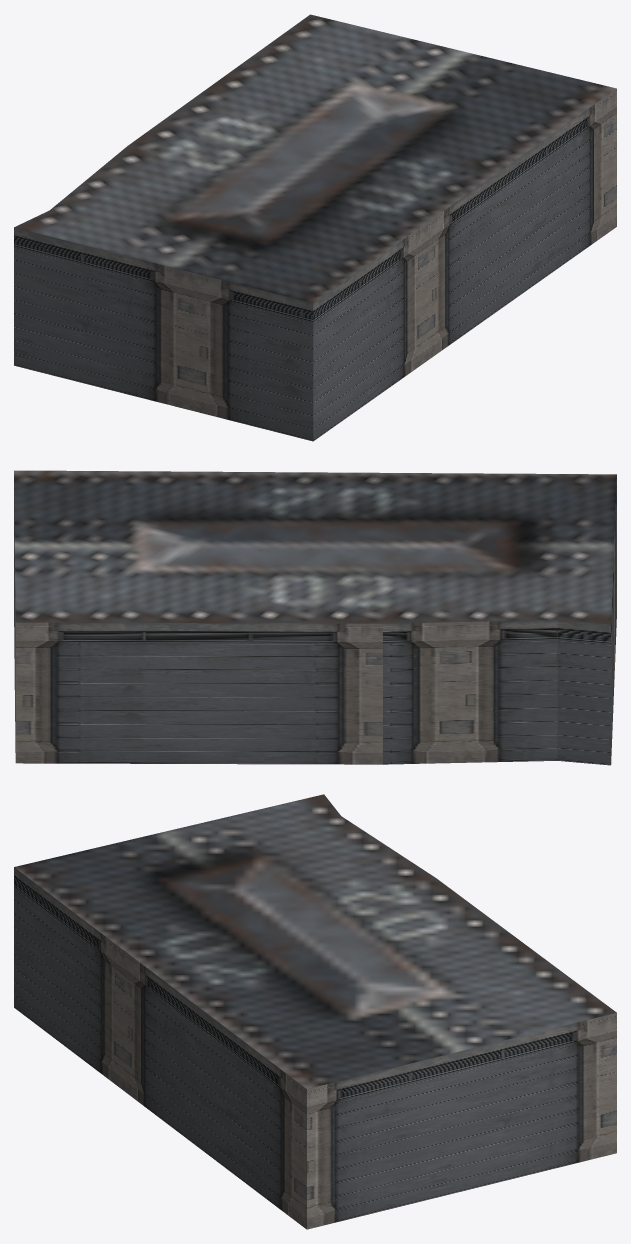
The model's file is hangar_hard_02.glb.
3 views of the same model, one above another, from view 1: azimuth 30°, elevation 25°; view 2: azimuth 150°, elevation 25°; view 3: azimuth 270°, elevation 25° (orthographic).
Parts seen in each view (by area): view 1: buildings/saxarba/hangar_hard/hangar_hard_02; view 2: buildings/saxarba/hangar_hard/hangar_hard_02; view 3: buildings/saxarba/hangar_hard/hangar_hard_02.
Part boxes in pixels (x1,y1,x2,y2): buildings/saxarba/hangar_hard/hangar_hard_02: (14, 14, 616, 441); buildings/saxarba/hangar_hard/hangar_hard_02: (14, 470, 616, 765); buildings/saxarba/hangar_hard/hangar_hard_02: (14, 794, 616, 1229).
Bounding box in the file's own units: 81 × 18 × 70.
